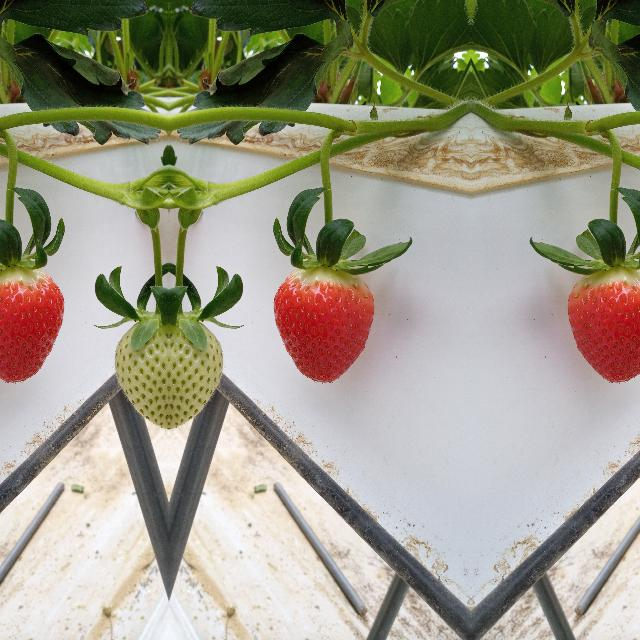Health_100: (272, 268, 374, 382), (567, 267, 640, 382), (0, 267, 64, 382)
Health_25: (168, 320, 222, 434), (114, 320, 168, 434)
